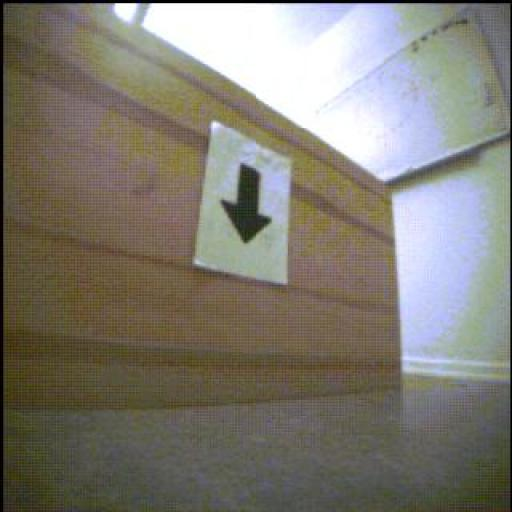Arrow: (222, 164, 271, 244)
